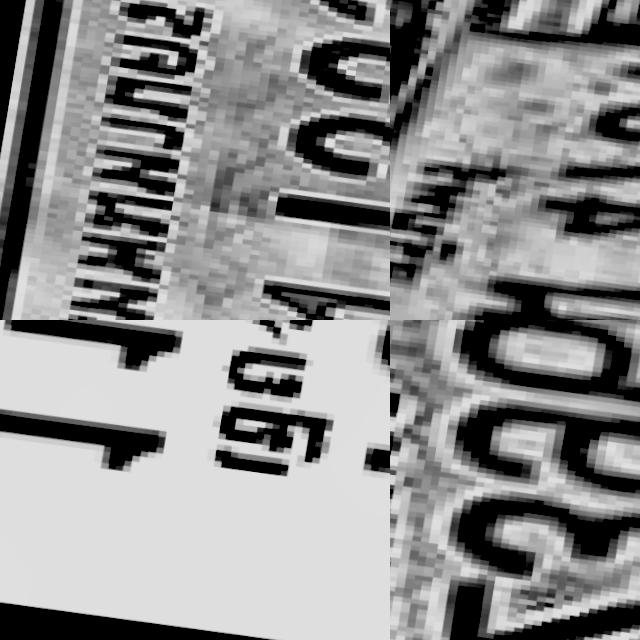license-plate: (0, 0, 390, 320), (0, 320, 390, 640), (390, 0, 640, 320), (390, 320, 640, 640)
